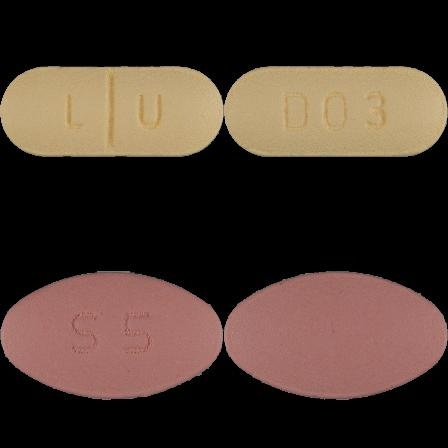50090-0991: (0, 0, 224, 224)
